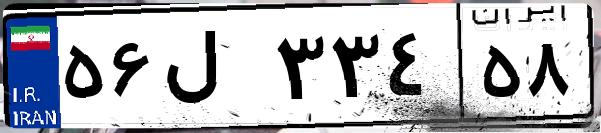3: (270, 28, 330, 110), (330, 28, 385, 110)
4: (385, 28, 445, 110)
5: (57, 26, 110, 100), (475, 38, 525, 113)
6: (110, 28, 158, 98)
8: (525, 38, 570, 115)
ل: (158, 20, 270, 120)
